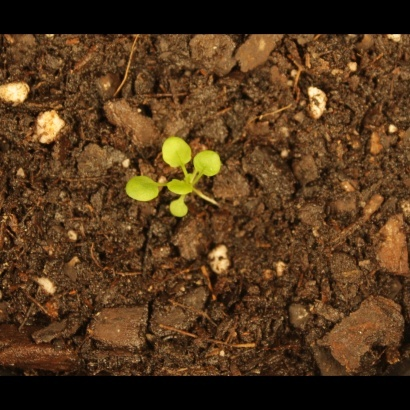leaf: (152, 134, 197, 172), (120, 168, 162, 205), (193, 147, 225, 181), (166, 176, 199, 200), (169, 195, 194, 220)
